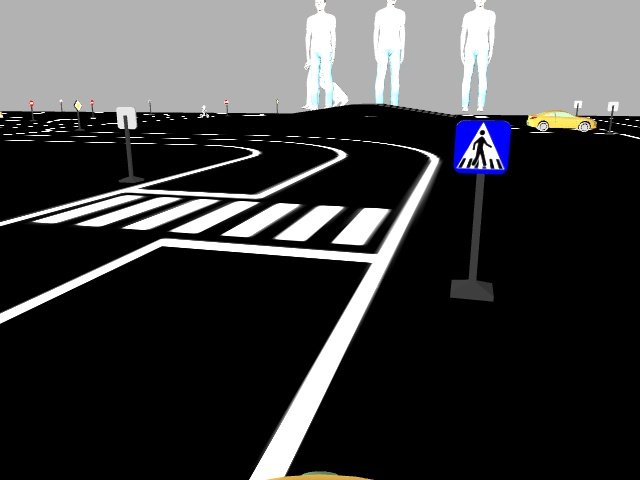Crosswalk: (454, 120, 507, 173)
